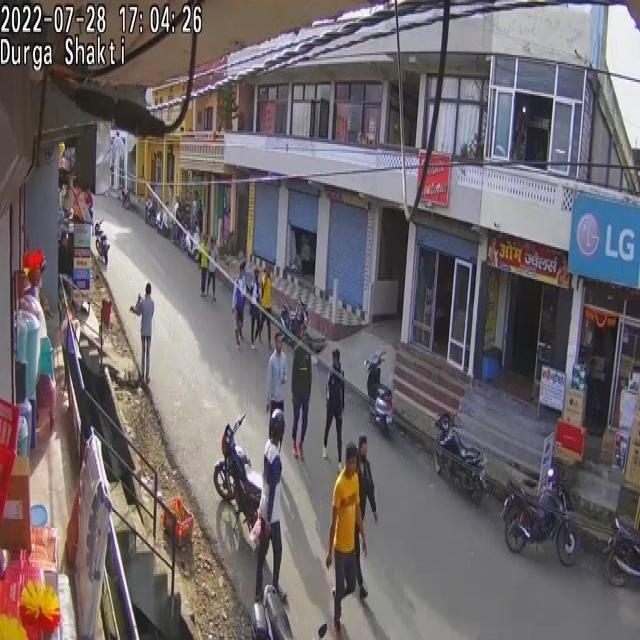non-fight: (326, 440, 366, 640), (254, 418, 286, 607), (147, 185, 206, 267), (230, 253, 274, 352), (355, 435, 377, 590), (290, 340, 312, 459), (324, 348, 346, 465), (133, 280, 156, 384), (265, 331, 287, 428), (19, 254, 46, 333), (199, 237, 213, 299), (327, 367, 344, 412), (192, 195, 202, 234), (85, 189, 94, 222), (197, 205, 205, 237), (173, 196, 180, 219)
